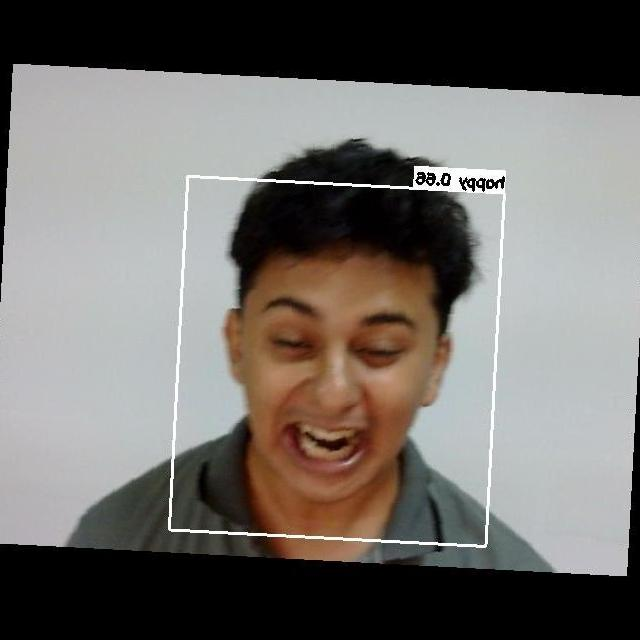Surprised: (247, 279, 447, 495)
